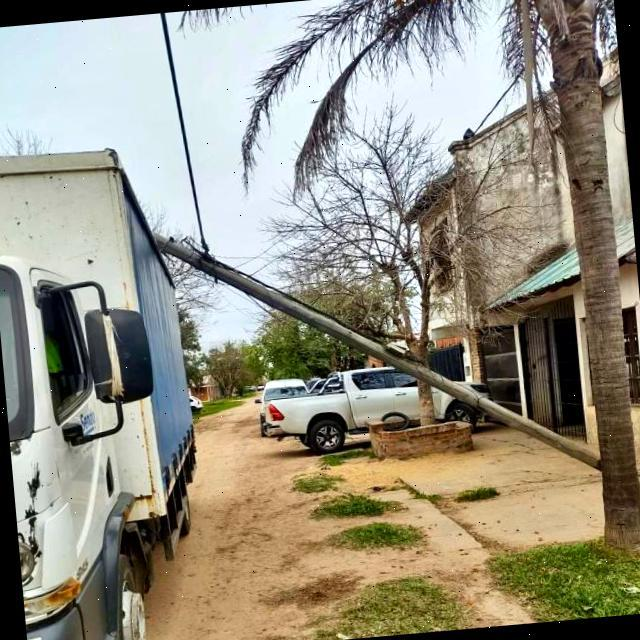Broken Pole: (157, 229, 599, 472)
